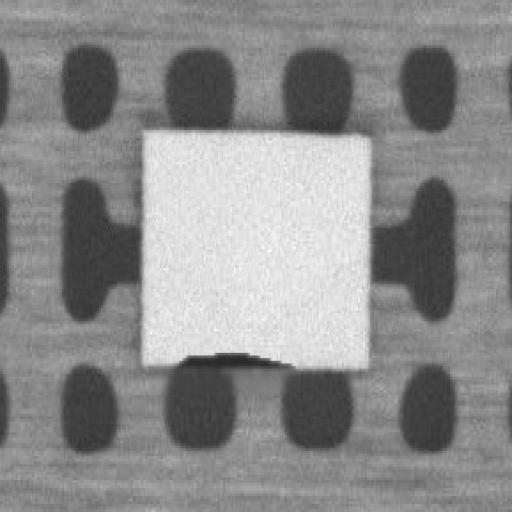DIE_BROKEN: (170, 342, 292, 366)
